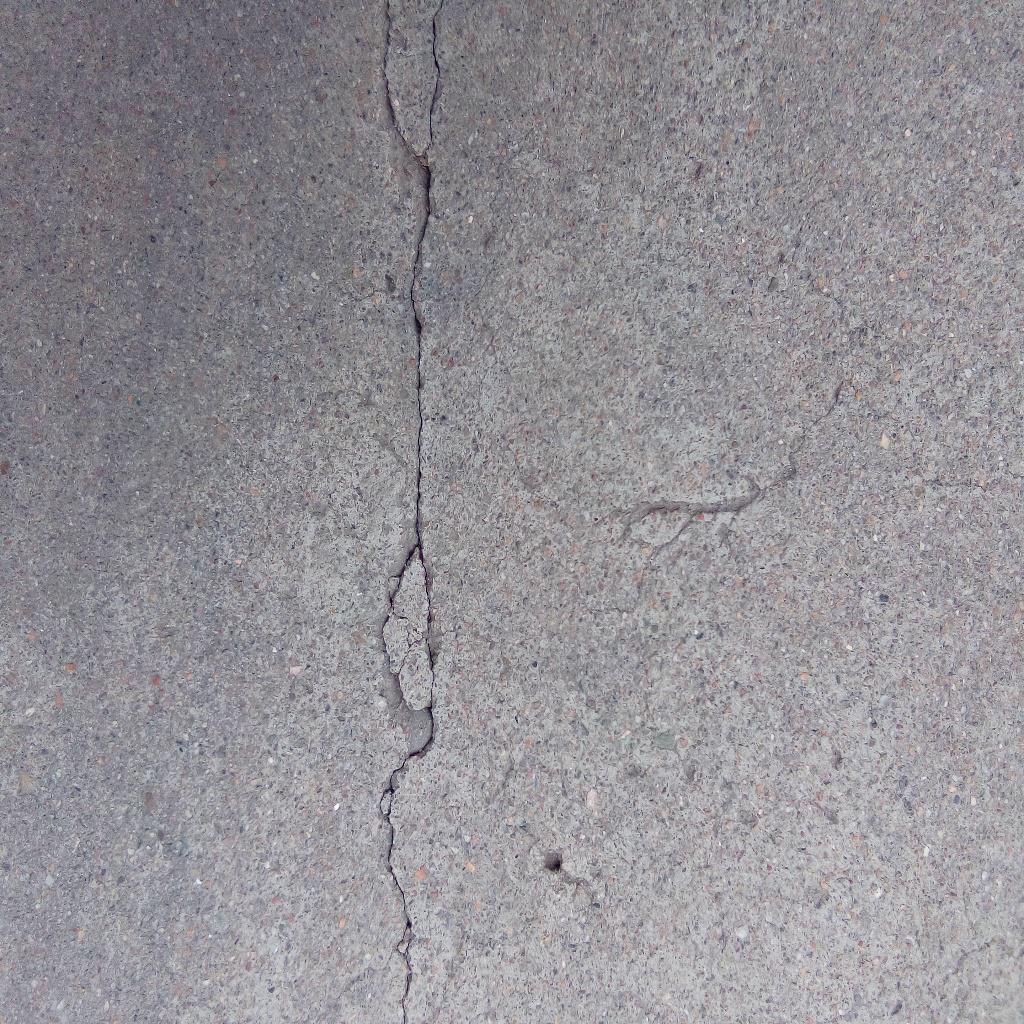Crack: (374, 1, 445, 1024)
